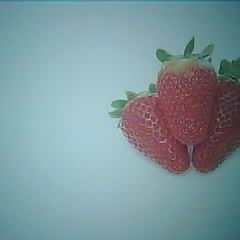straw-ripe: (120, 94, 188, 173), (158, 58, 217, 143)
